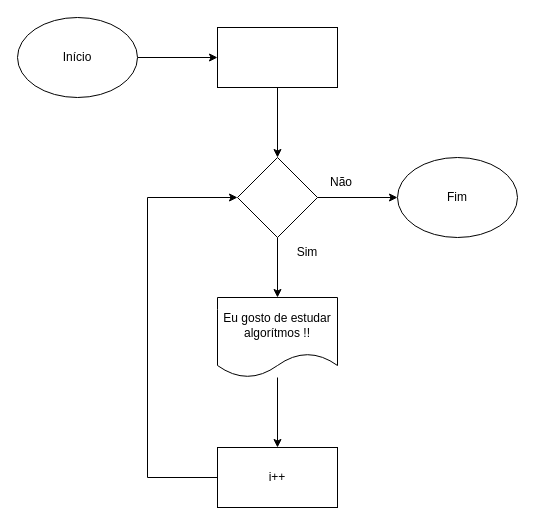
This 535x525 diagram has some shape labels left out. Each missing label, with the box of its shape:
i <= 20: (236, 156, 318, 238)
i = 1: (216, 26, 338, 88)
